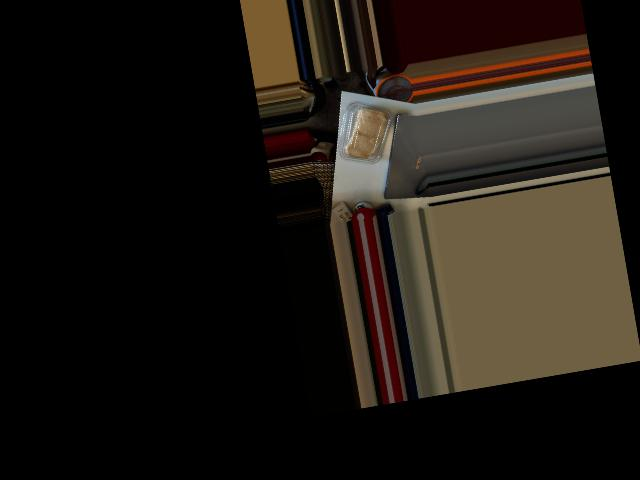cheese: (330, 91, 400, 171)
